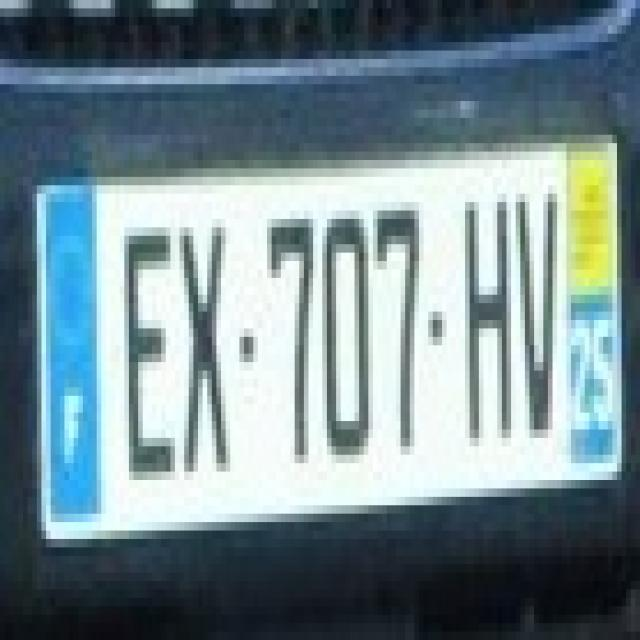EU: (34, 137, 626, 549)
France: (44, 186, 103, 526)
